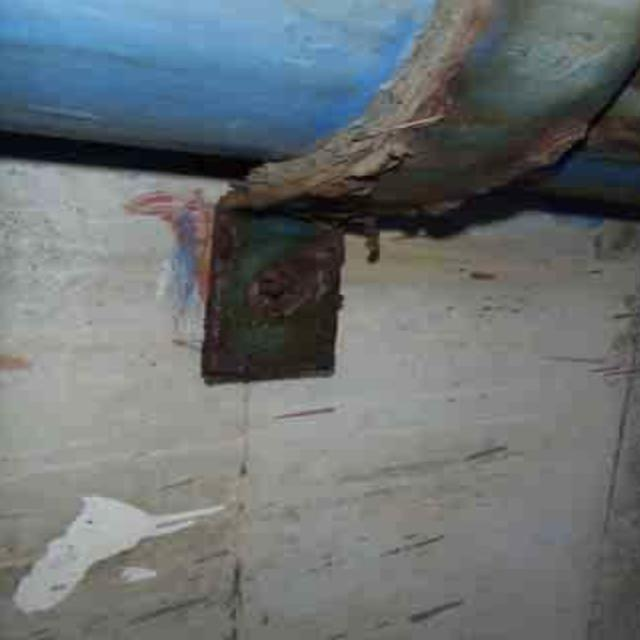corrosion: (153, 39, 507, 400)
